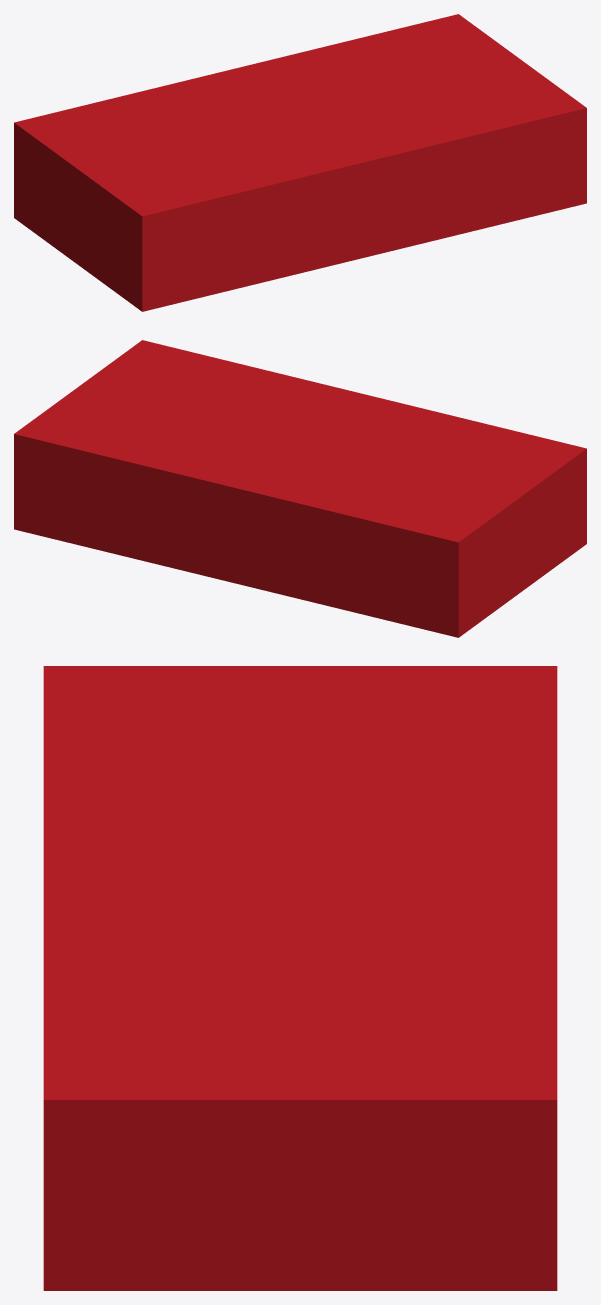
File: fillerbrick.fbx
3 views of the same model, one above another, from view 1: azimuth 30°, elevation 25°; view 2: azimuth 150°, elevation 25°; view 3: azimuth 270°, elevation 25° (orthographic). The views are drawn at different scales.
Visible parts, largest first — view 1: test 1x2 plate.016; view 2: test 1x2 plate.016; view 3: test 1x2 plate.016.
Part boxes in pixels (x1,y1,x2,y2): test 1x2 plate.016: (14, 14, 586, 311); test 1x2 plate.016: (14, 340, 586, 637); test 1x2 plate.016: (43, 666, 557, 1290).
Bounding box in the file's own units: 0.312 × 0.064 × 0.156.
